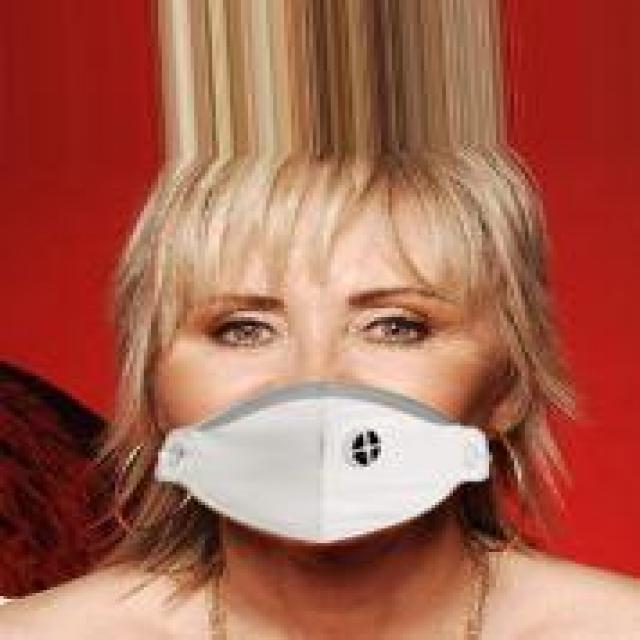mask: (137, 103, 600, 575)
